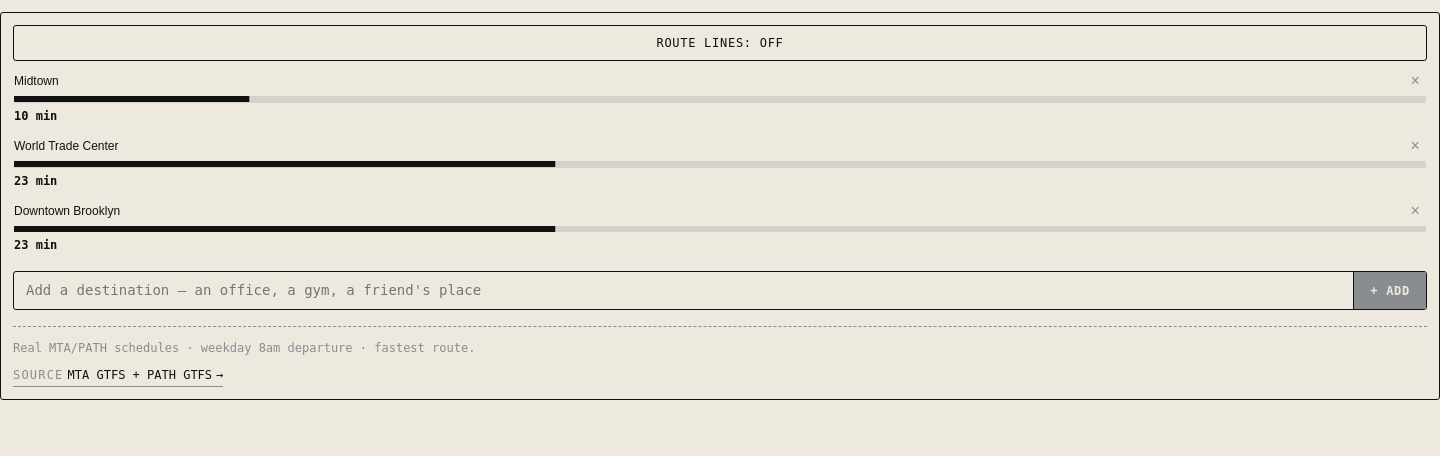
it: GettingAroundField -- Wave 4 route-lines toggle + nav directions › selecting an unreachable destination shows the real honest reason, not fabricated steps
Click the button "Midtown 10 min ×": (720, 97) 9,65 -> 1431,130
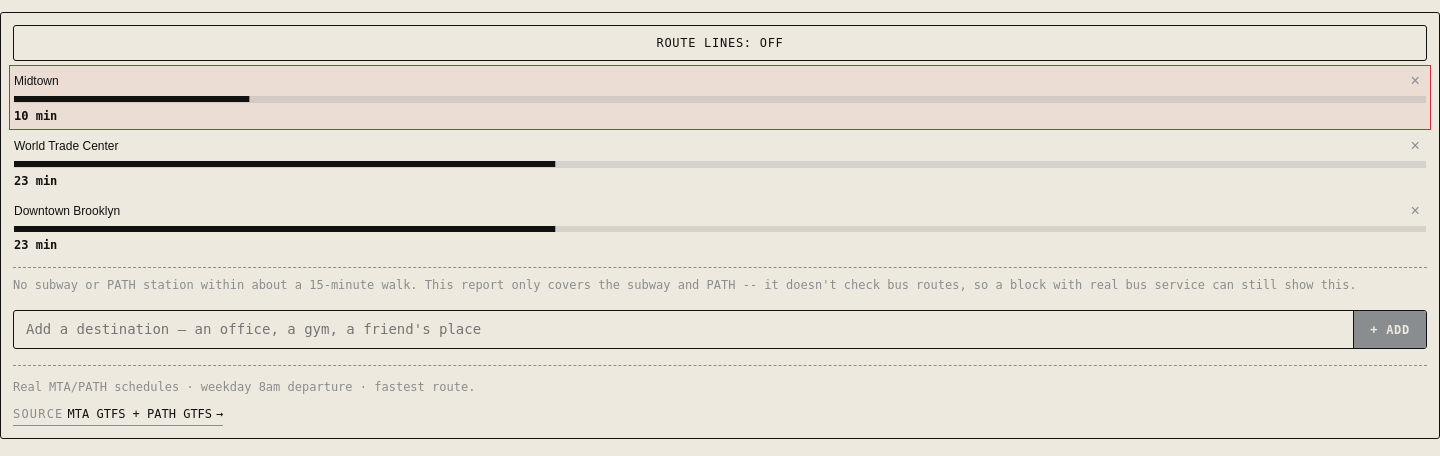
Expected: the text "about a 15-minute walk" is shown, 13,278 -> 1357,292
